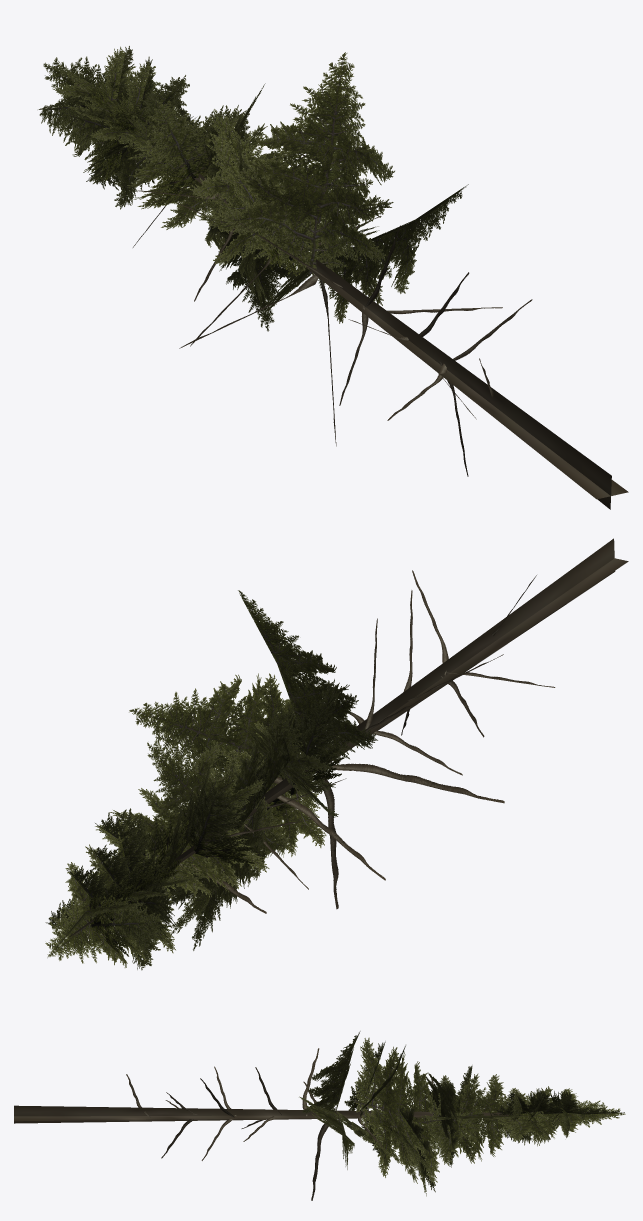
Rendered from MEP_Con_01_g_LOD_01.fbx.
3 views of the same model, one above another, from view 1: azimuth 30°, elevation 25°; view 2: azimuth 150°, elevation 25°; view 3: azimuth 270°, elevation 25° (orthographic). The views are drawn at different scales.
Visible parts, largest first — view 1: MEP_Con_01_g_LOD_01; view 2: MEP_Con_01_g_LOD_01; view 3: MEP_Con_01_g_LOD_01.
Part boxes in pixels (x1,y1,x2,y2): MEP_Con_01_g_LOD_01: (38, 46, 628, 509); MEP_Con_01_g_LOD_01: (45, 538, 628, 970); MEP_Con_01_g_LOD_01: (14, 1031, 625, 1200).
Size of the model in its own units: 9.31 by 9.14 by 26.68.
